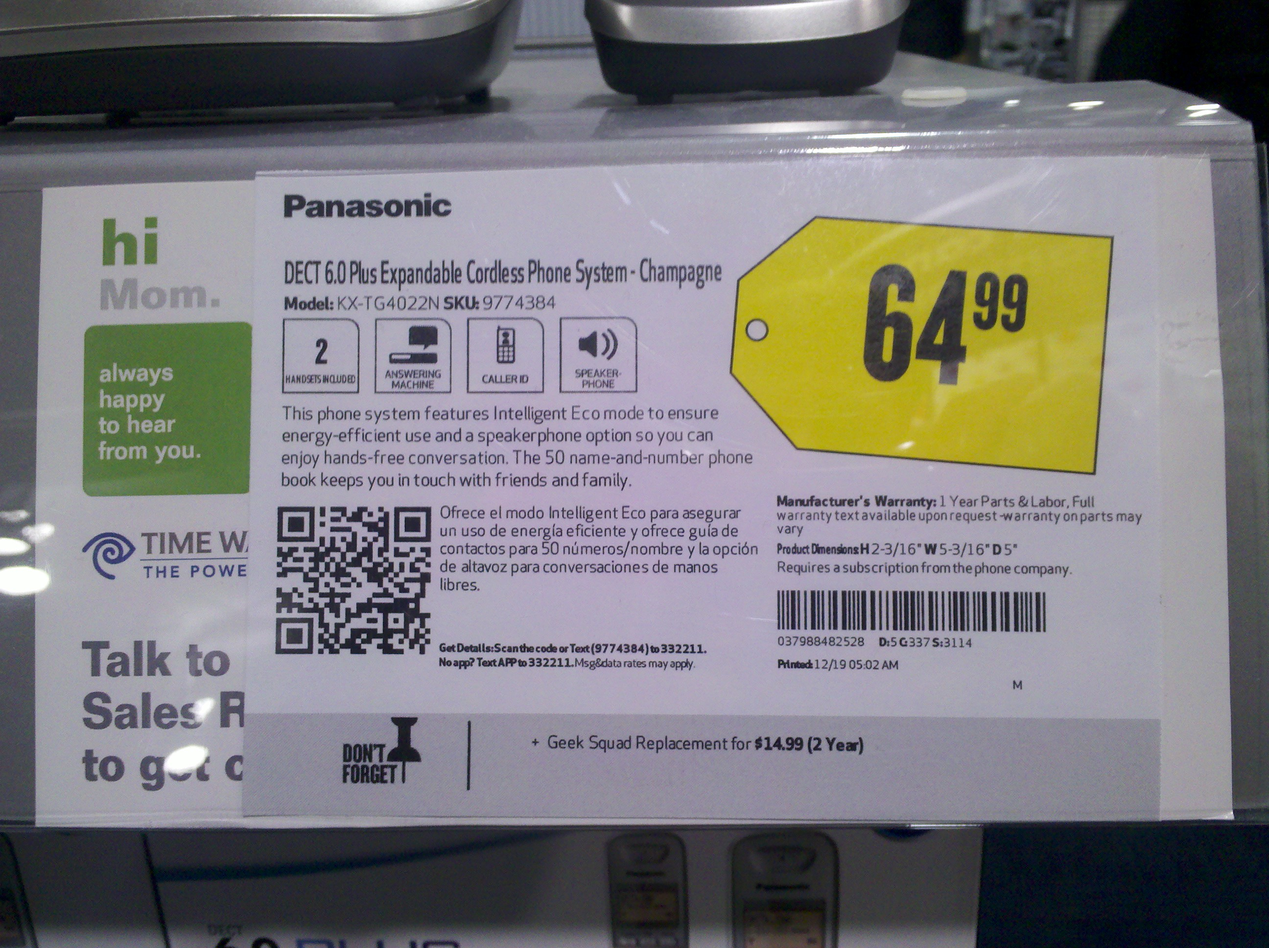QR-CODE: (275, 506, 431, 654)
